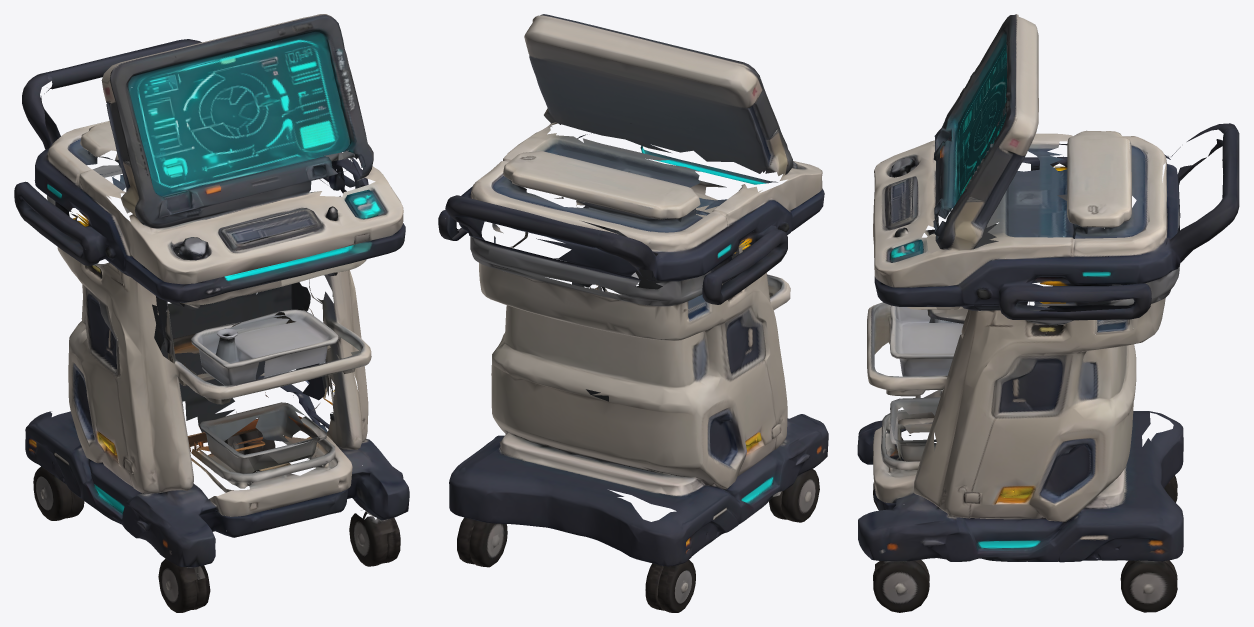
Rendered from diagnostic_cart_tripo_20261008.glb.
3 renders of one model, left to right at view 1: azimuth 30°, elevation 25°; view 2: azimuth 150°, elevation 25°; view 3: azimuth 270°, elevation 25°, orthographic.
Parts seen in each view (by area): view 1: tripo_node_787ef5a5-0e0e-4131-a060-7711b10541e3; view 2: tripo_node_787ef5a5-0e0e-4131-a060-7711b10541e3; view 3: tripo_node_787ef5a5-0e0e-4131-a060-7711b10541e3.
Boxes of the visible parts, x1,y1,x2,y2 form: tripo_node_787ef5a5-0e0e-4131-a060-7711b10541e3: (14, 14, 409, 612); tripo_node_787ef5a5-0e0e-4131-a060-7711b10541e3: (438, 14, 828, 612); tripo_node_787ef5a5-0e0e-4131-a060-7711b10541e3: (857, 14, 1239, 612).
Bounding box in the file's own units: 0.6485 × 1.1 × 0.763.
Materials: 1 (1 with a texture image).
